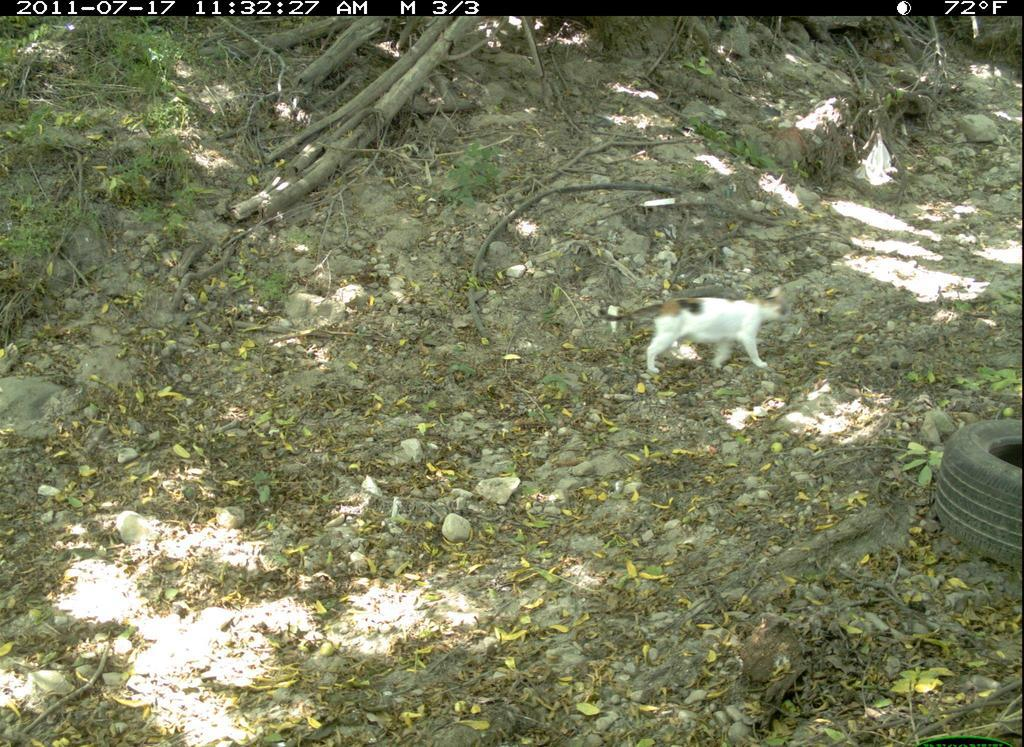cat: (593, 283, 804, 383)
